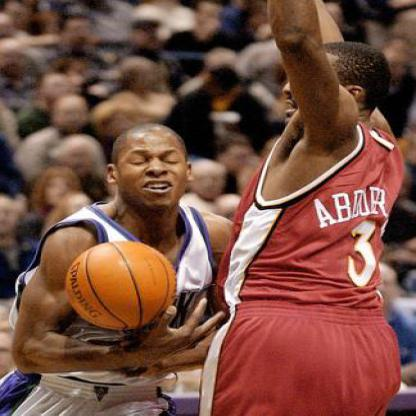face: (115, 125, 192, 214), (61, 139, 101, 182), (41, 73, 79, 111), (53, 95, 90, 134), (191, 161, 227, 199), (125, 58, 159, 98), (61, 16, 96, 53), (42, 172, 76, 209), (132, 20, 164, 52), (1, 42, 29, 77)
